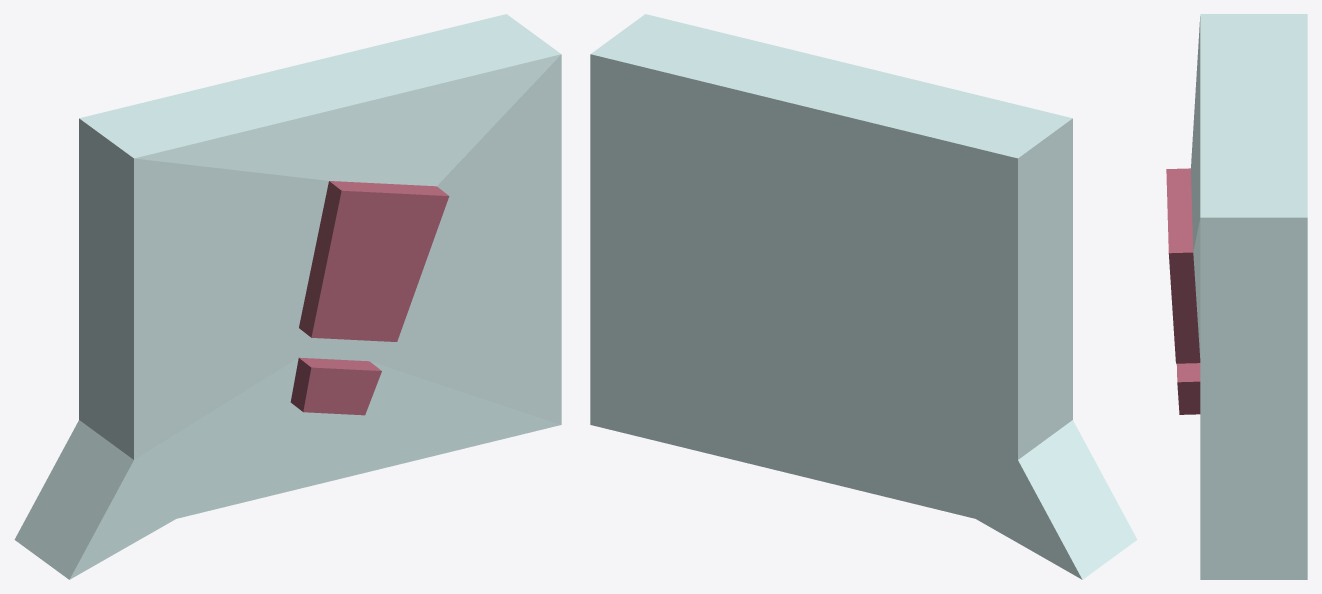
File: tiramysu-dialogue-bubble.glb
The picture shows the model from 3 angles, left to right: view 1: azimuth 30°, elevation 25°; view 2: azimuth 150°, elevation 25°; view 3: azimuth 270°, elevation 25°; orthographic projection. The views are drawn at different scales.
Parts seen in each view (by area): view 1: DialogueBubble; view 2: DialogueBubble; view 3: DialogueBubble.
Part boxes in pixels (left/top/right/bottom): DialogueBubble: left=14, top=14, right=561, bottom=579; DialogueBubble: left=590, top=14, right=1137, bottom=579; DialogueBubble: left=1166, top=14, right=1307, bottom=579.
Size of the model in its own units: 0.5613 by 0.4422 by 0.1428.
1 material, 1 textured.
